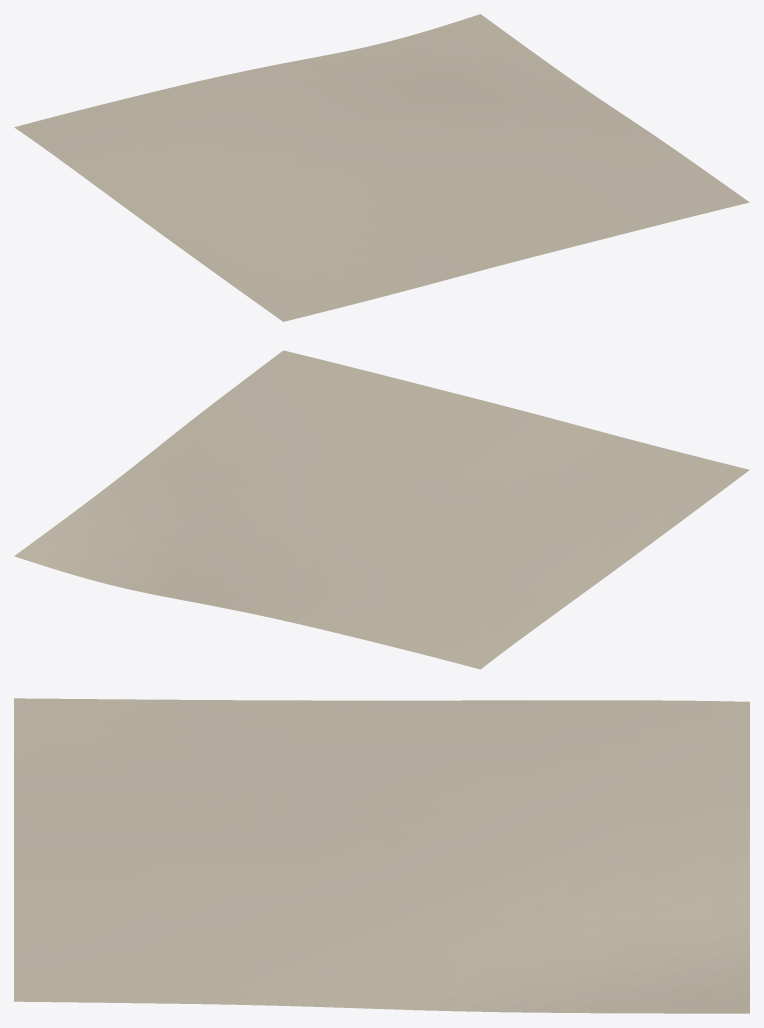
The model's file is bolak_-23_9.glb.
3 renders of one model, top to bottom at view 1: azimuth 30°, elevation 25°; view 2: azimuth 150°, elevation 25°; view 3: azimuth 270°, elevation 25°, orthographic. The views are drawn at different scales.
Visible parts, largest first — view 1: Yer_Tuproq-col; view 2: Yer_Tuproq-col; view 3: Yer_Tuproq-col.
Part boxes in pixels (<box>): Yer_Tuproq-col: <box>14,14,749,321</box>; Yer_Tuproq-col: <box>14,350,749,669</box>; Yer_Tuproq-col: <box>14,698,749,1013</box>.
Bounding box in the file's own units: 400 × 11.39 × 400.
